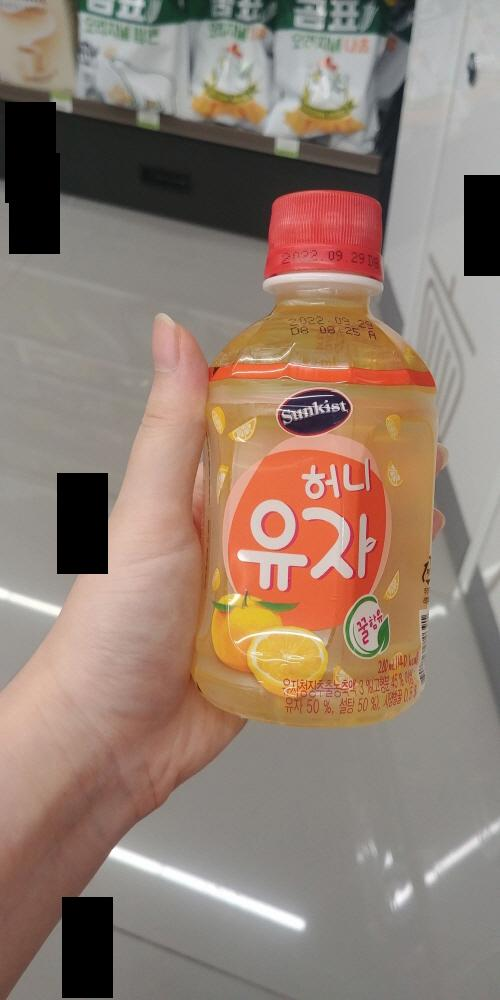honeyyuja: (153, 148, 459, 747)
